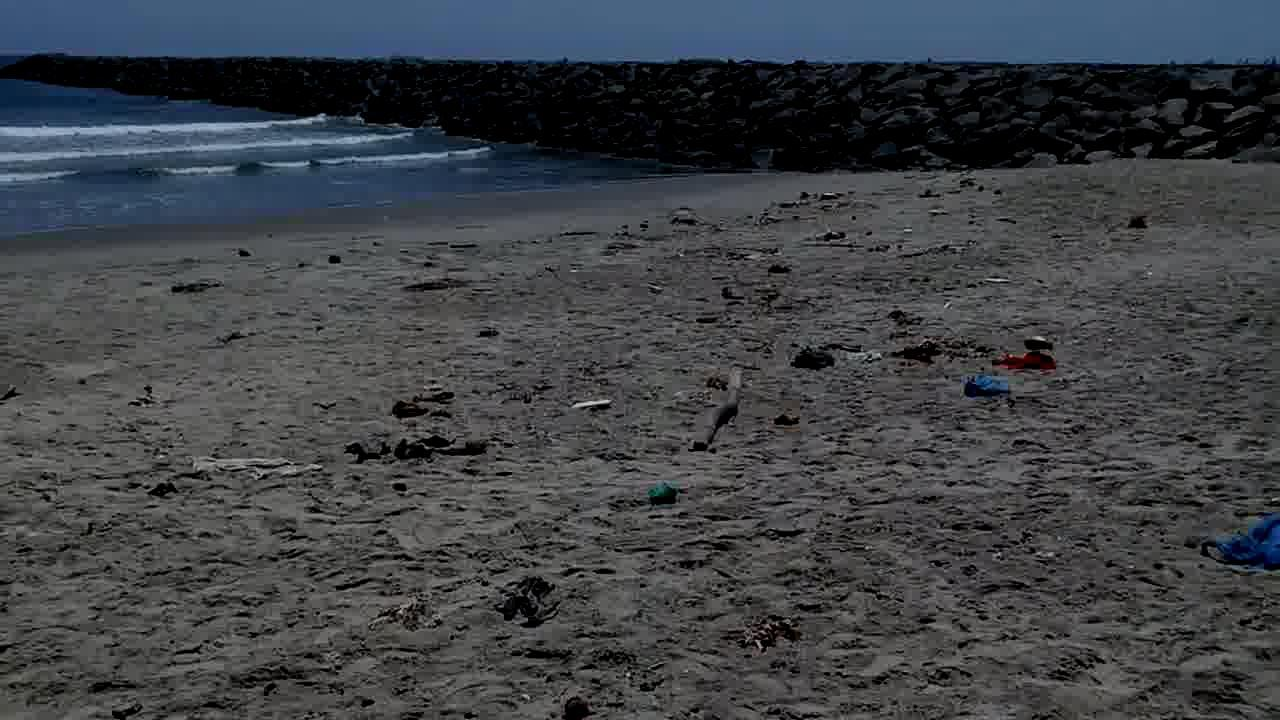obj: (348, 390, 497, 465), (1194, 508, 1279, 571), (688, 365, 744, 447), (193, 446, 316, 482), (501, 576, 557, 630), (894, 338, 940, 363), (999, 352, 1062, 369), (794, 346, 834, 371), (559, 690, 593, 718), (650, 478, 680, 508), (965, 377, 1007, 396), (569, 398, 612, 408)
sand/background: (0, 0, 1279, 263)
